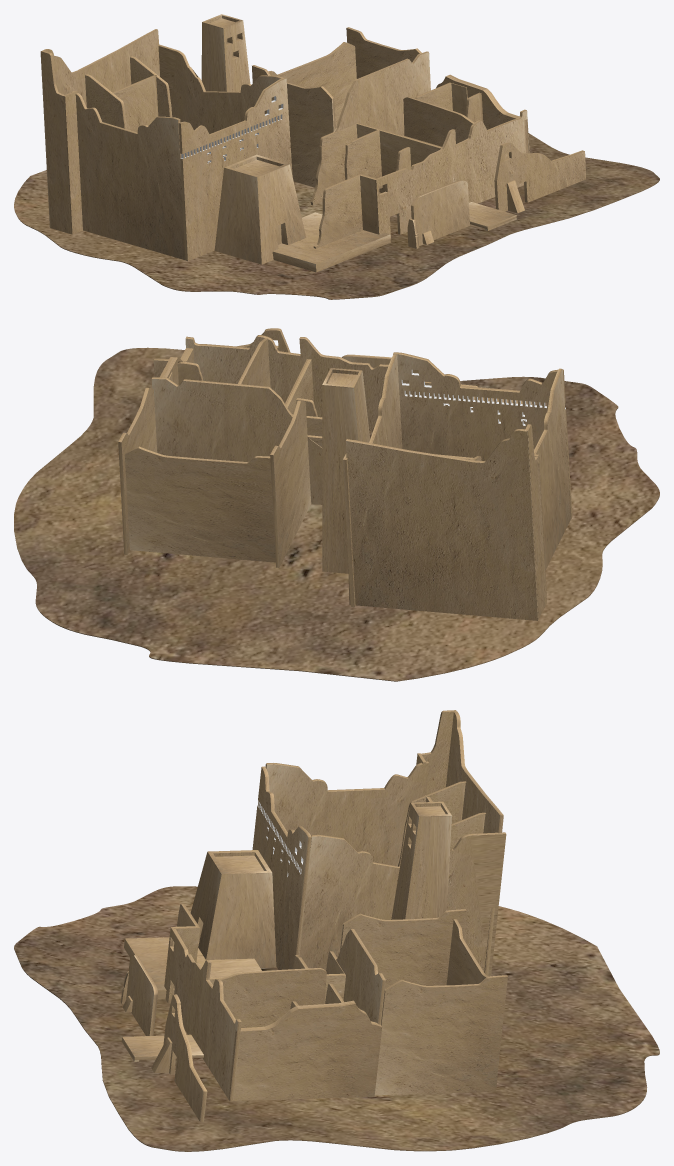
File: diriyah.glb
The picture shows the model from 3 angles, top to bottom: view 1: azimuth 30°, elevation 25°; view 2: azimuth 150°, elevation 25°; view 3: azimuth 270°, elevation 25°; orthographic projection. The views are drawn at different scales.
Parts seen in each view (by area): view 1: Mud_house_2; view 2: Mud_house_2; view 3: Mud_house_2.
Boxes of the visible parts, x1,y1,x2,y2 form: Mud_house_2: (14, 14, 659, 299); Mud_house_2: (14, 328, 659, 681); Mud_house_2: (14, 710, 659, 1151).
Bounding box in the file's own units: 27.75 × 9.93 × 27.09.
3 materials, 2 textured.
